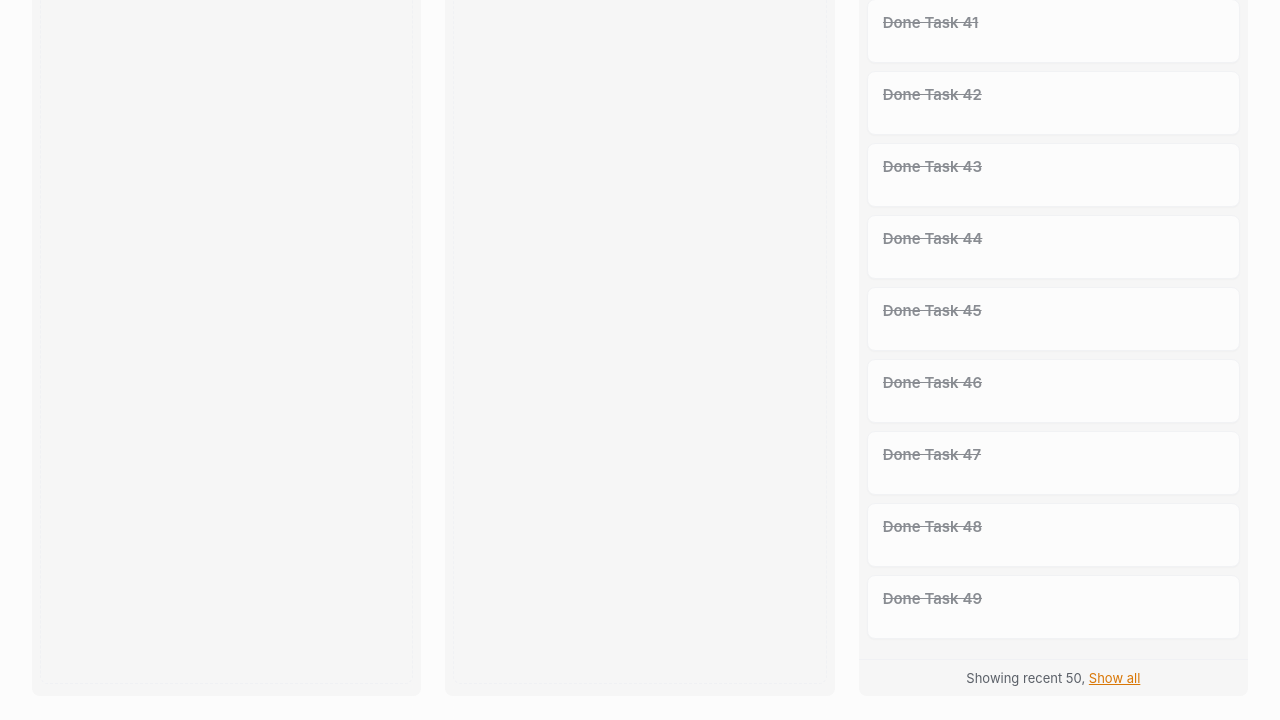
Scenario: KanbanView — Done column overflow (binding resolution #1.3) › clicking "Show all" reveals all 60 done items
(page scrolled)
Click the button with aria-label "Show all done items" at (1115,678), box [1089,670,1140,686]
(page scrolled)
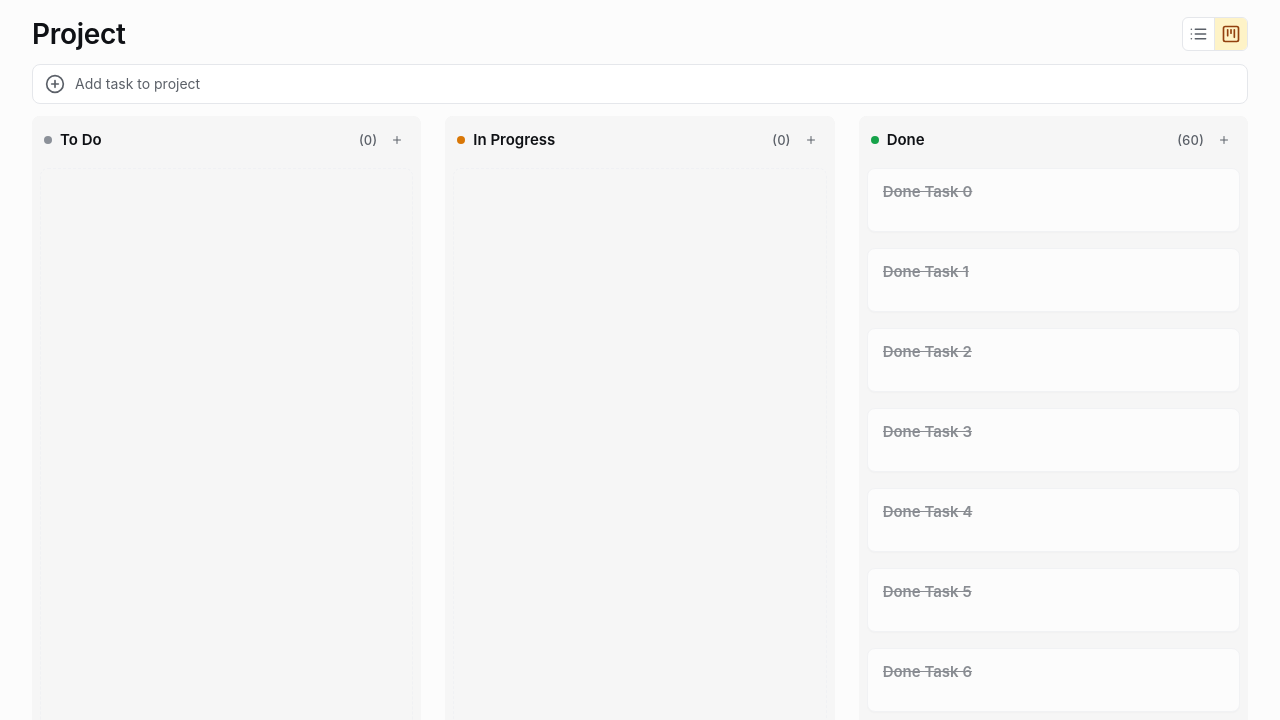
expect the element showing "Done Task 0" is shown: met, box [867,168,1240,232]
expect the text "Showing recent 50" is gone: met
